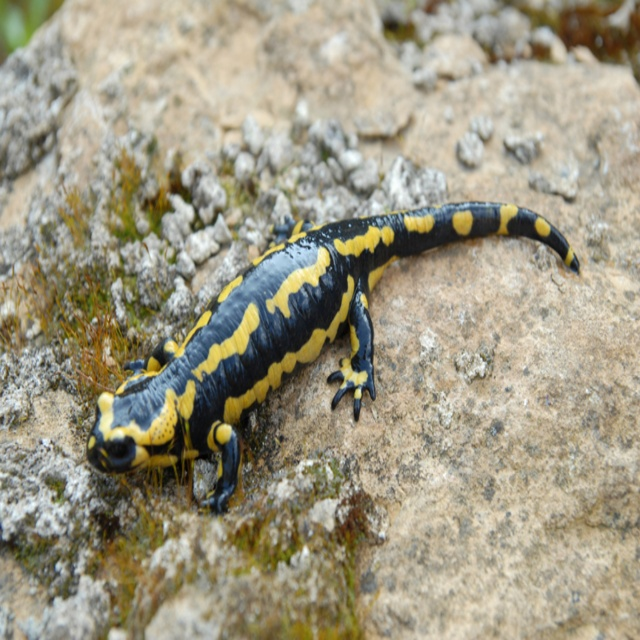Lizard: (85, 200, 583, 515)
